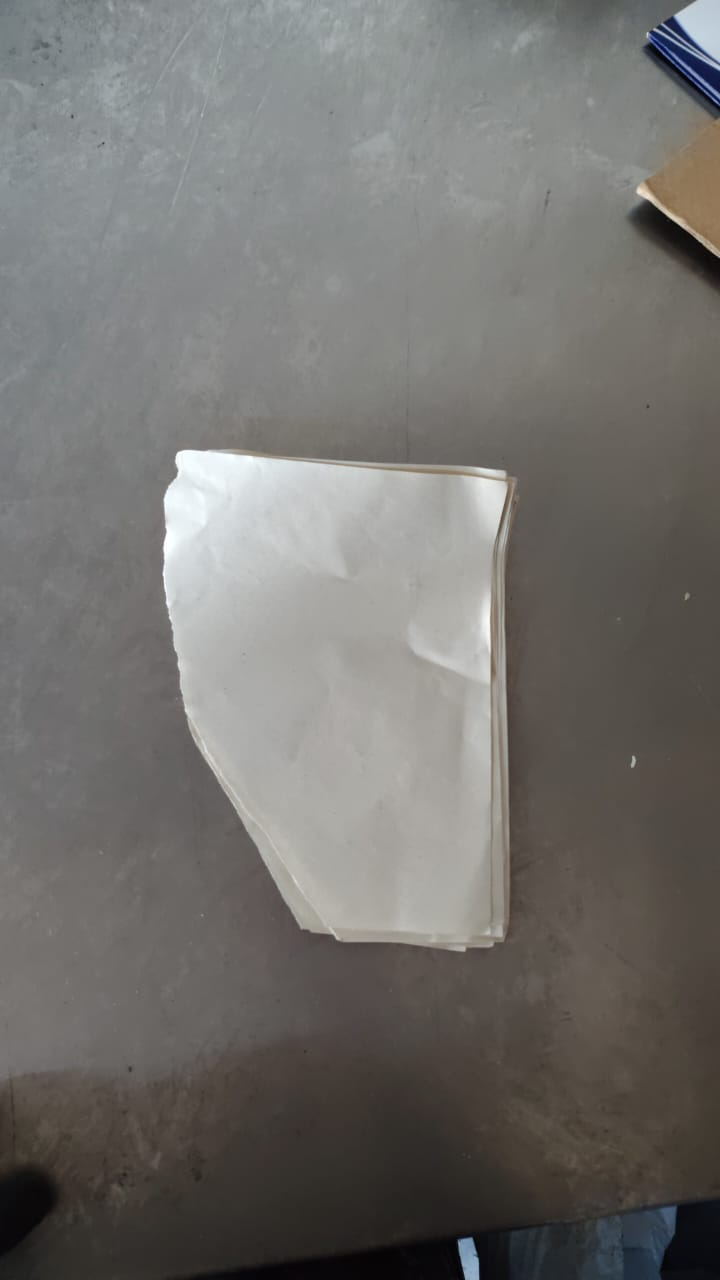Papel: (161, 450, 519, 953)
